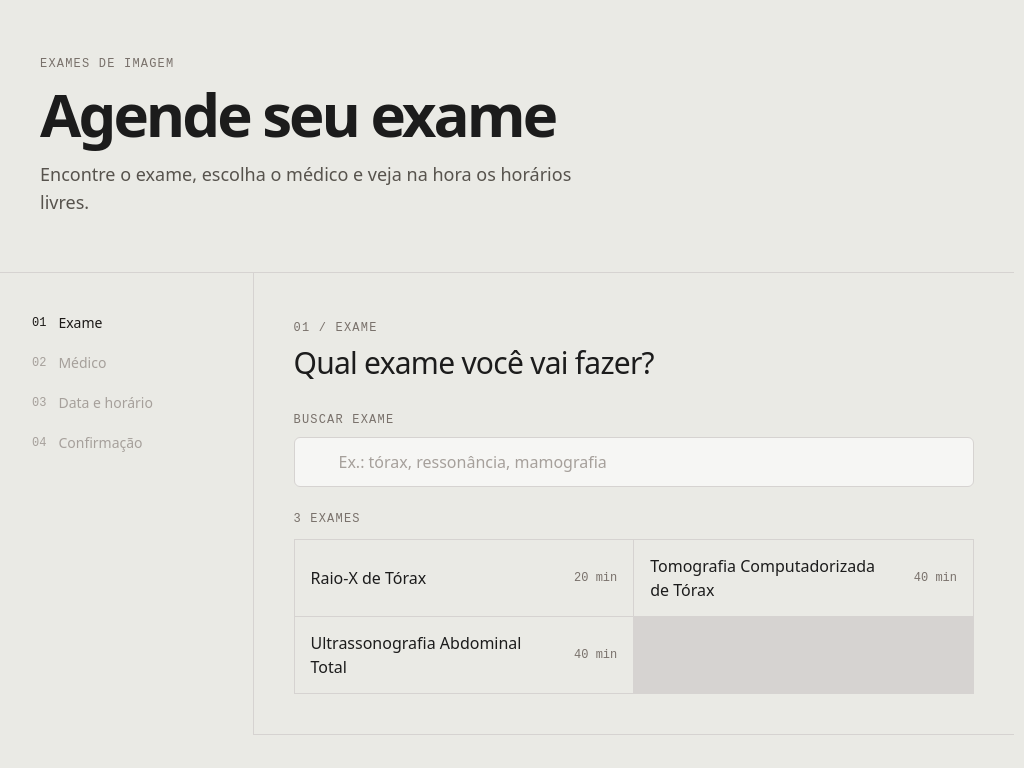
Test: FluxoDeAgendamento › avisa quando a busca não encontra exames
The image size is (1024, 768).
Step 1. Type "endoscopia" into the search field labelled "Buscar exame" → (634, 462), box [294,437,974,487]
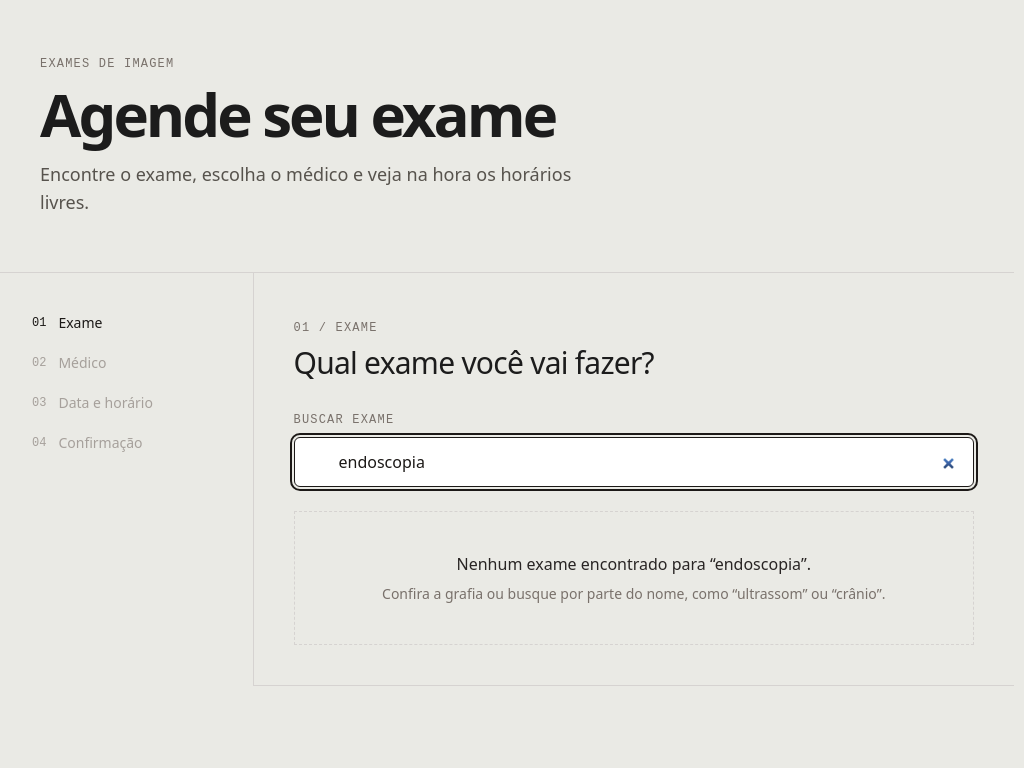
Result: the text "Nenhum exame encontrado para “endoscopia”." is shown at [456,553,811,575]
